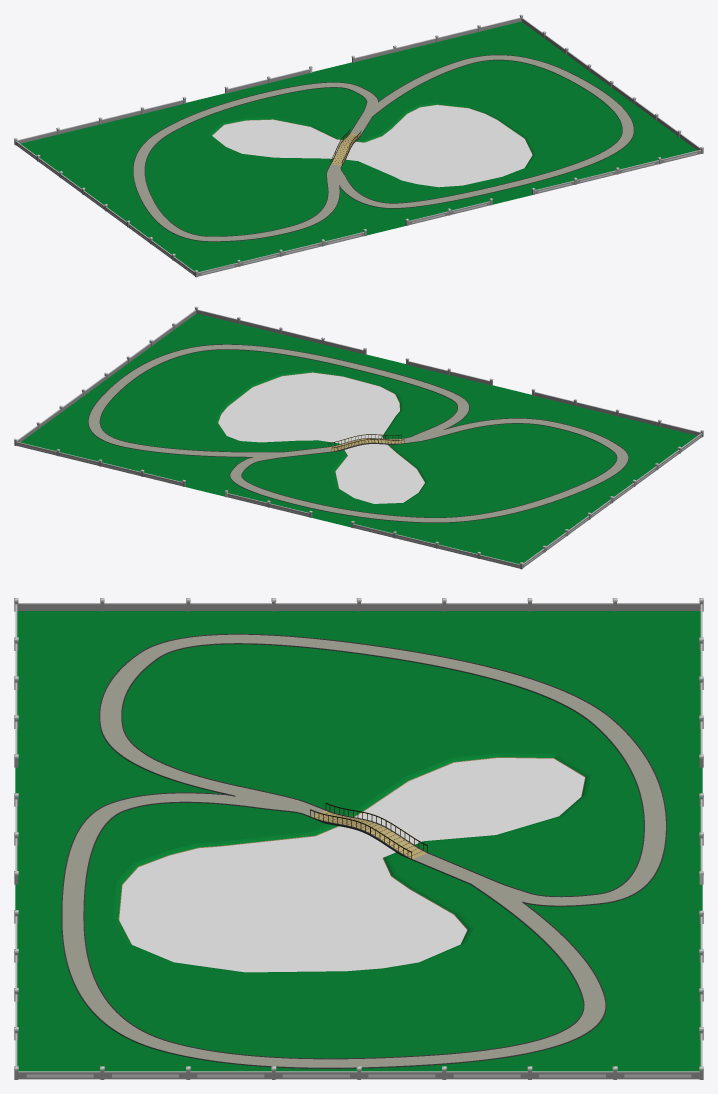
The model's file is Park-Lake.fbx.
The picture shows the model from 3 angles, top to bottom: view 1: azimuth 30°, elevation 25°; view 2: azimuth 150°, elevation 25°; view 3: azimuth 270°, elevation 25°; orthographic projection. The views are drawn at different scales.
Parts seen in each view (by area): view 1: parklake, Lake, parkLake-Road; view 2: parklake, Lake, parkLake-Road; view 3: parklake, Lake, parkLake-Road.
Part boxes in pixels (box(x1,y1,x2,y2)): parklake: box(14, 14, 703, 277); Lake: box(212, 105, 532, 187); parkLake-Road: box(133, 54, 634, 241); parklake: box(14, 306, 703, 569); Lake: box(218, 372, 424, 503); parkLake-Road: box(88, 344, 628, 522); parklake: box(14, 598, 703, 1079); Lake: box(119, 758, 584, 972); parkLake-Road: box(61, 633, 666, 1068).
Size of what is drawn, in the model's own units: 168 by 4.3 by 104.
